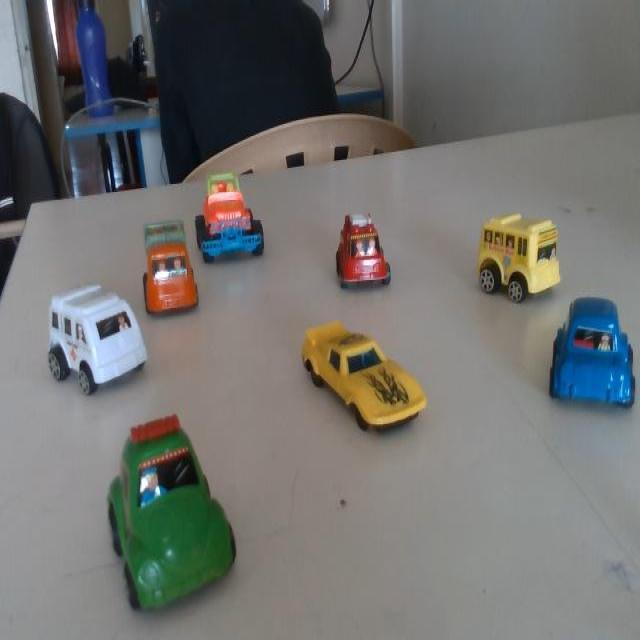car: (87, 421, 233, 596), (289, 313, 430, 443), (36, 266, 153, 411), (549, 296, 639, 416), (467, 210, 554, 310), (197, 161, 278, 264), (321, 202, 394, 308), (135, 210, 199, 322)
